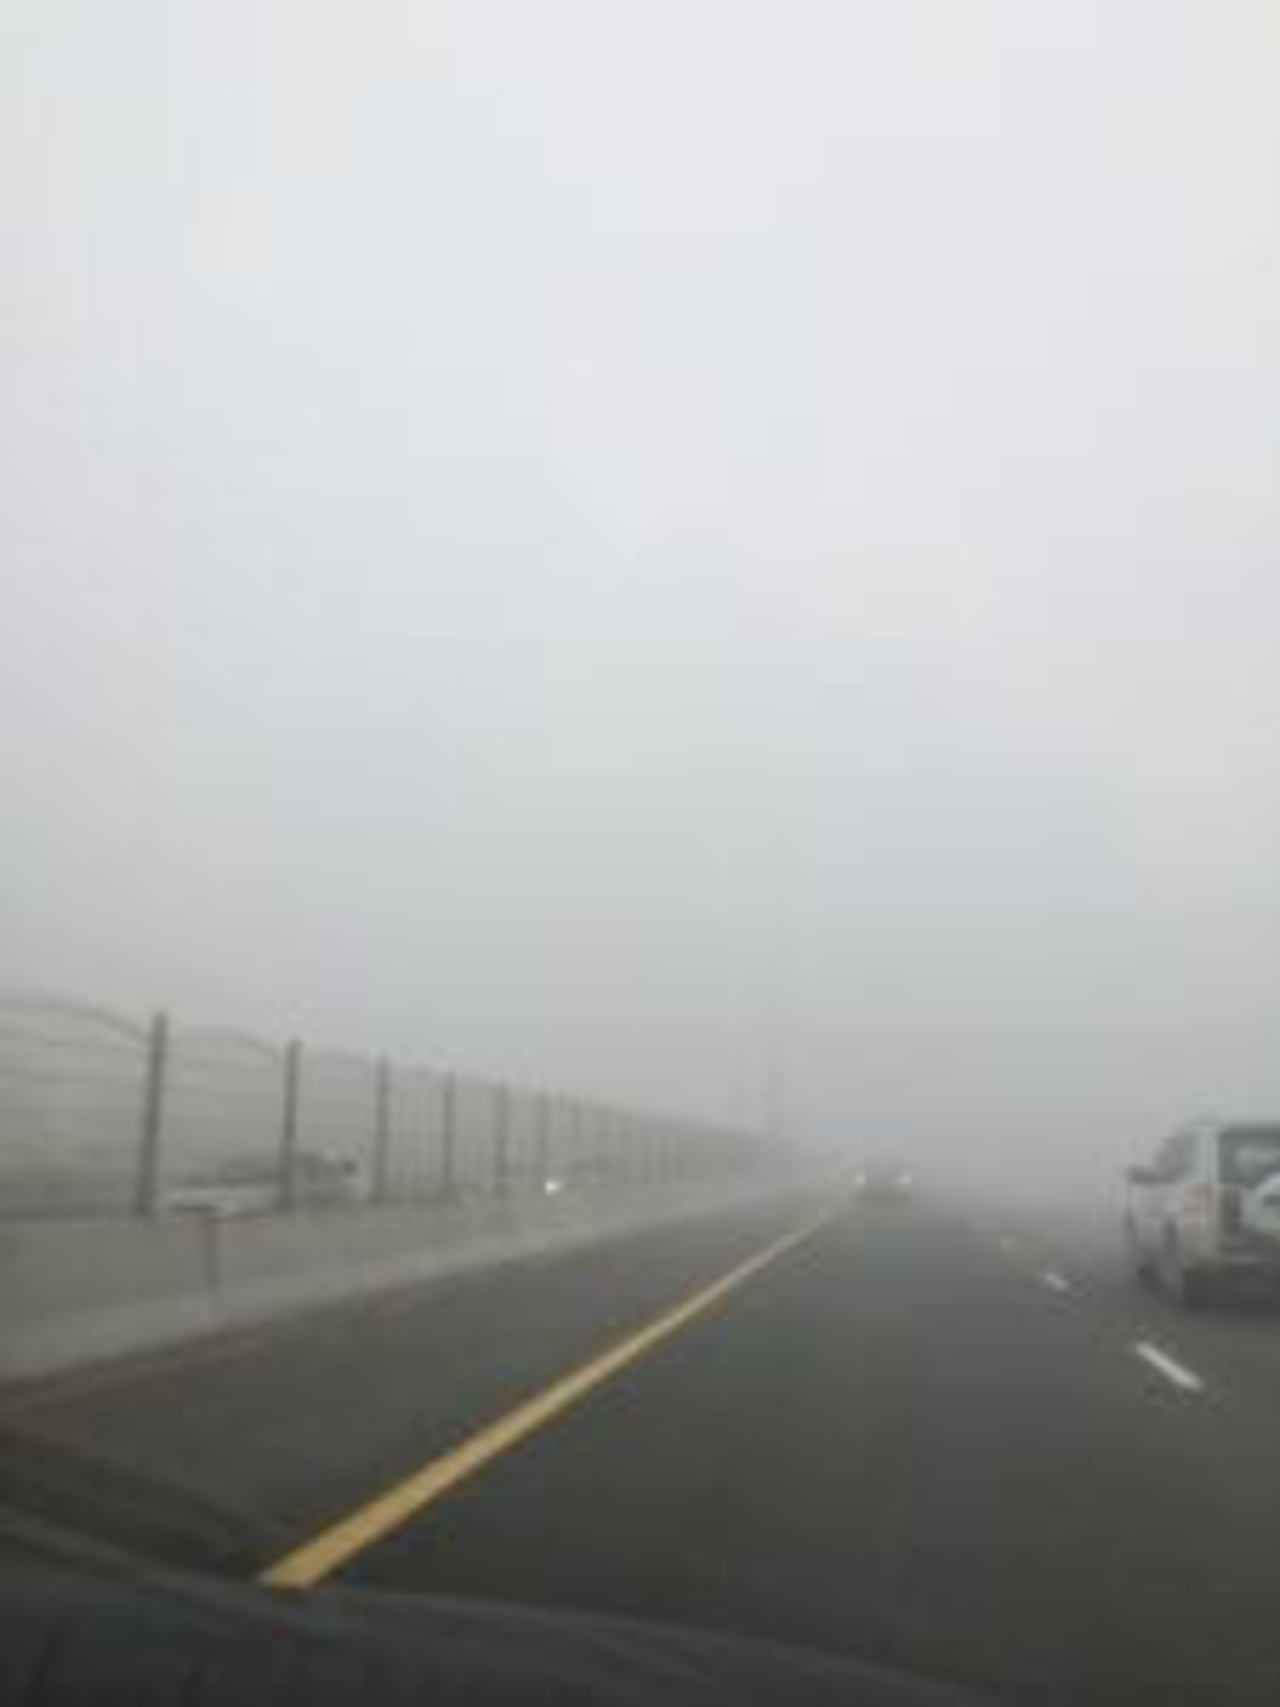car: (1129, 1106, 1279, 1323), (852, 1121, 914, 1206)
